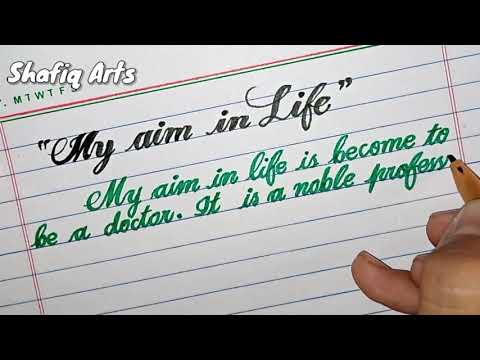text: (29, 148, 452, 252), (82, 119, 453, 219), (35, 74, 355, 178), (5, 57, 138, 90), (12, 84, 79, 105)
